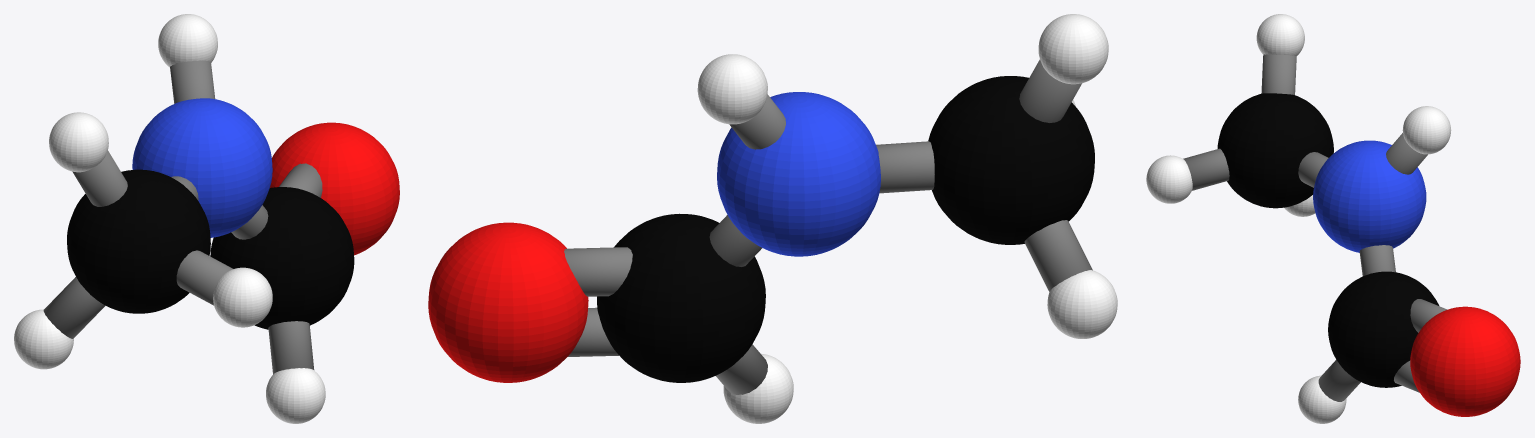
File: METILFORMAMIDA.obj
3 views of the same model, side by side, from view 1: azimuth 30°, elevation 25°; view 2: azimuth 150°, elevation 25°; view 3: azimuth 270°, elevation 25° (orthographic). The views are drawn at different scales.
Parts seen in each view (by area): view 1: Carbon_ball_Sphere, Hydrogen_ball_Sphere.002, Nitrogen_ball_Sphere.001, Oxygen_ball_Sphere.003, Stick_Cylinder.006_Cylinder.006, Stick_Cylinder.002_Cylinder.002, Stick_Cylinder.007_Cylinder.007, Stick_Cylinder.005_Cylinder.005, Stick_Cylinder.003_Cylinder.003, Stick_Cylinder.001_Cylinder.001, Stick_Cylinder_Cylinder; view 2: Carbon_ball_Sphere, Oxygen_ball_Sphere.003, Nitrogen_ball_Sphere.001, Hydrogen_ball_Sphere.002, Stick_Cylinder.006_Cylinder.006, Stick_Cylinder.004_Cylinder.004, Stick_Cylinder.001_Cylinder.001, Stick_Cylinder.005_Cylinder.005, Stick_Cylinder.003_Cylinder.003, Stick_Cylinder_Cylinder, Stick_Cylinder.002_Cylinder.002, Stick_Cylinder.008_Cylinder.008; view 3: Carbon_ball_Sphere, Oxygen_ball_Sphere.003, Nitrogen_ball_Sphere.001, Hydrogen_ball_Sphere.002, Stick_Cylinder.005_Cylinder.005, Stick_Cylinder.007_Cylinder.007, Stick_Cylinder.002_Cylinder.002, Stick_Cylinder_Cylinder, Stick_Cylinder.003_Cylinder.003, Stick_Cylinder.004_Cylinder.004, Stick_Cylinder.001_Cylinder.001, Stick_Cylinder.008_Cylinder.008.
Part boxes in pixels (x1,y1,x2,y2): Carbon_ball_Sphere: [67, 169, 354, 329]; Hydrogen_ball_Sphere.002: [14, 14, 325, 423]; Nitrogen_ball_Sphere.001: [132, 98, 272, 237]; Oxygen_ball_Sphere.003: [270, 122, 399, 255]; Stick_Cylinder.006_Cylinder.006: [43, 277, 105, 338]; Stick_Cylinder.002_Cylinder.002: [268, 321, 314, 374]; Stick_Cylinder.007_Cylinder.007: [176, 250, 233, 305]; Stick_Cylinder.005_Cylinder.005: [72, 150, 127, 206]; Stick_Cylinder.003_Cylinder.003: [170, 60, 215, 103]; Stick_Cylinder.001_Cylinder.001: [279, 163, 322, 197]; Stick_Cylinder_Cylinder: [231, 205, 268, 239]; Carbon_ball_Sphere: [597, 76, 1094, 382]; Oxygen_ball_Sphere.003: [428, 222, 588, 382]; Nitrogen_ball_Sphere.001: [717, 92, 880, 256]; Hydrogen_ball_Sphere.002: [697, 14, 1117, 423]; Stick_Cylinder.006_Cylinder.006: [1024, 220, 1092, 291]; Stick_Cylinder.004_Cylinder.004: [876, 141, 934, 193]; Stick_Cylinder.001_Cylinder.001: [564, 247, 632, 296]; Stick_Cylinder.005_Cylinder.005: [1019, 59, 1081, 122]; Stick_Cylinder.003_Cylinder.003: [729, 94, 785, 149]; Stick_Cylinder_Cylinder: [709, 215, 761, 266]; Stick_Cylinder.002_Cylinder.002: [716, 344, 767, 394]; Stick_Cylinder.008_Cylinder.008: [568, 307, 618, 356]; Carbon_ball_Sphere: [1217, 93, 1439, 387]; Oxygen_ball_Sphere.003: [1410, 306, 1520, 416]; Nitrogen_ball_Sphere.001: [1313, 140, 1426, 252]; Hydrogen_ball_Sphere.002: [1146, 14, 1451, 423]; Stick_Cylinder.005_Cylinder.005: [1261, 54, 1296, 94]; Stick_Cylinder.007_Cylinder.007: [1183, 148, 1229, 190]; Stick_Cylinder.002_Cylinder.002: [1318, 359, 1360, 401]; Stick_Cylinder_Cylinder: [1359, 245, 1395, 275]; Stick_Cylinder.003_Cylinder.003: [1386, 133, 1427, 174]; Stick_Cylinder.004_Cylinder.004: [1298, 152, 1328, 187]; Stick_Cylinder.001_Cylinder.001: [1410, 299, 1447, 332]; Stick_Cylinder.008_Cylinder.008: [1394, 360, 1419, 392].
Size of the model in its own units: 5.25 by 4.07 by 4.45.
